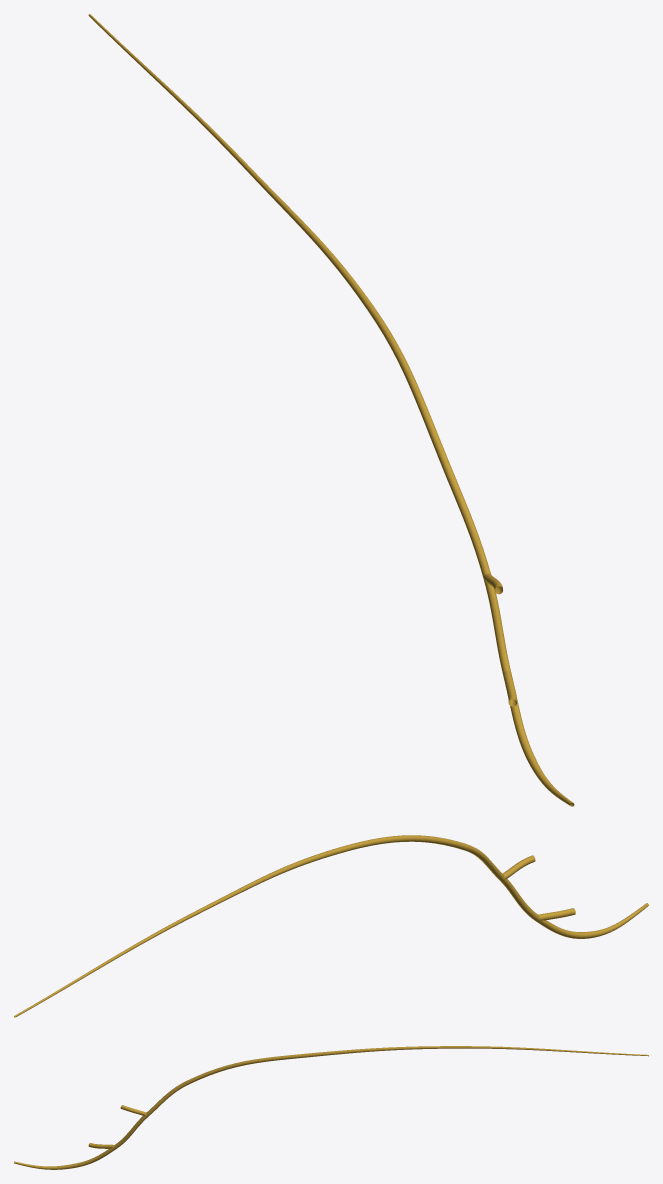
3 views of the same model, one above another, from view 1: azimuth 30°, elevation 25°; view 2: azimuth 150°, elevation 25°; view 3: azimuth 270°, elevation 25° (orthographic). The views are drawn at different scales.
Parts seen in each view (by area): view 1: 左侧股后皮神经; view 2: 左侧股后皮神经; view 3: 左侧股后皮神经.
Boxes of the visible parts, bbox=[...] form: 左侧股后皮神经: bbox=[88, 14, 574, 806]; 左侧股后皮神经: bbox=[14, 835, 648, 1017]; 左侧股后皮神经: bbox=[14, 1046, 648, 1169].
Size of the model in its own units: 0.0616 by 0.1146 by 0.4375.
